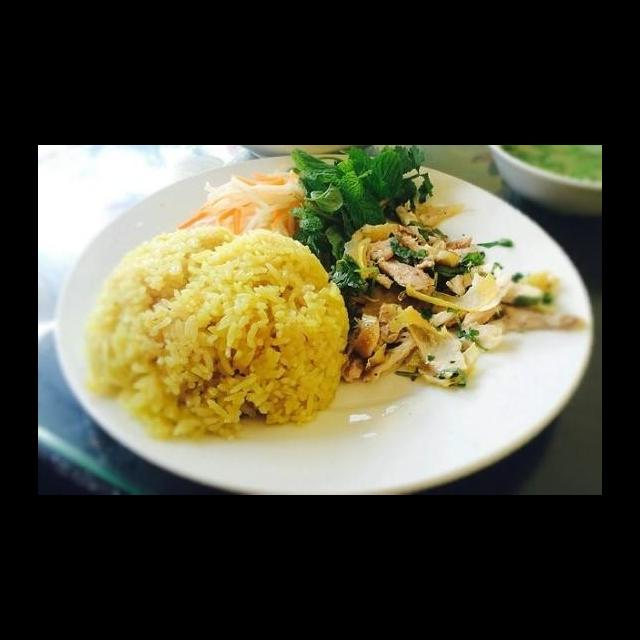com: (83, 223, 354, 447)
com ga: (76, 188, 596, 495)
thit ga: (330, 201, 590, 395)
